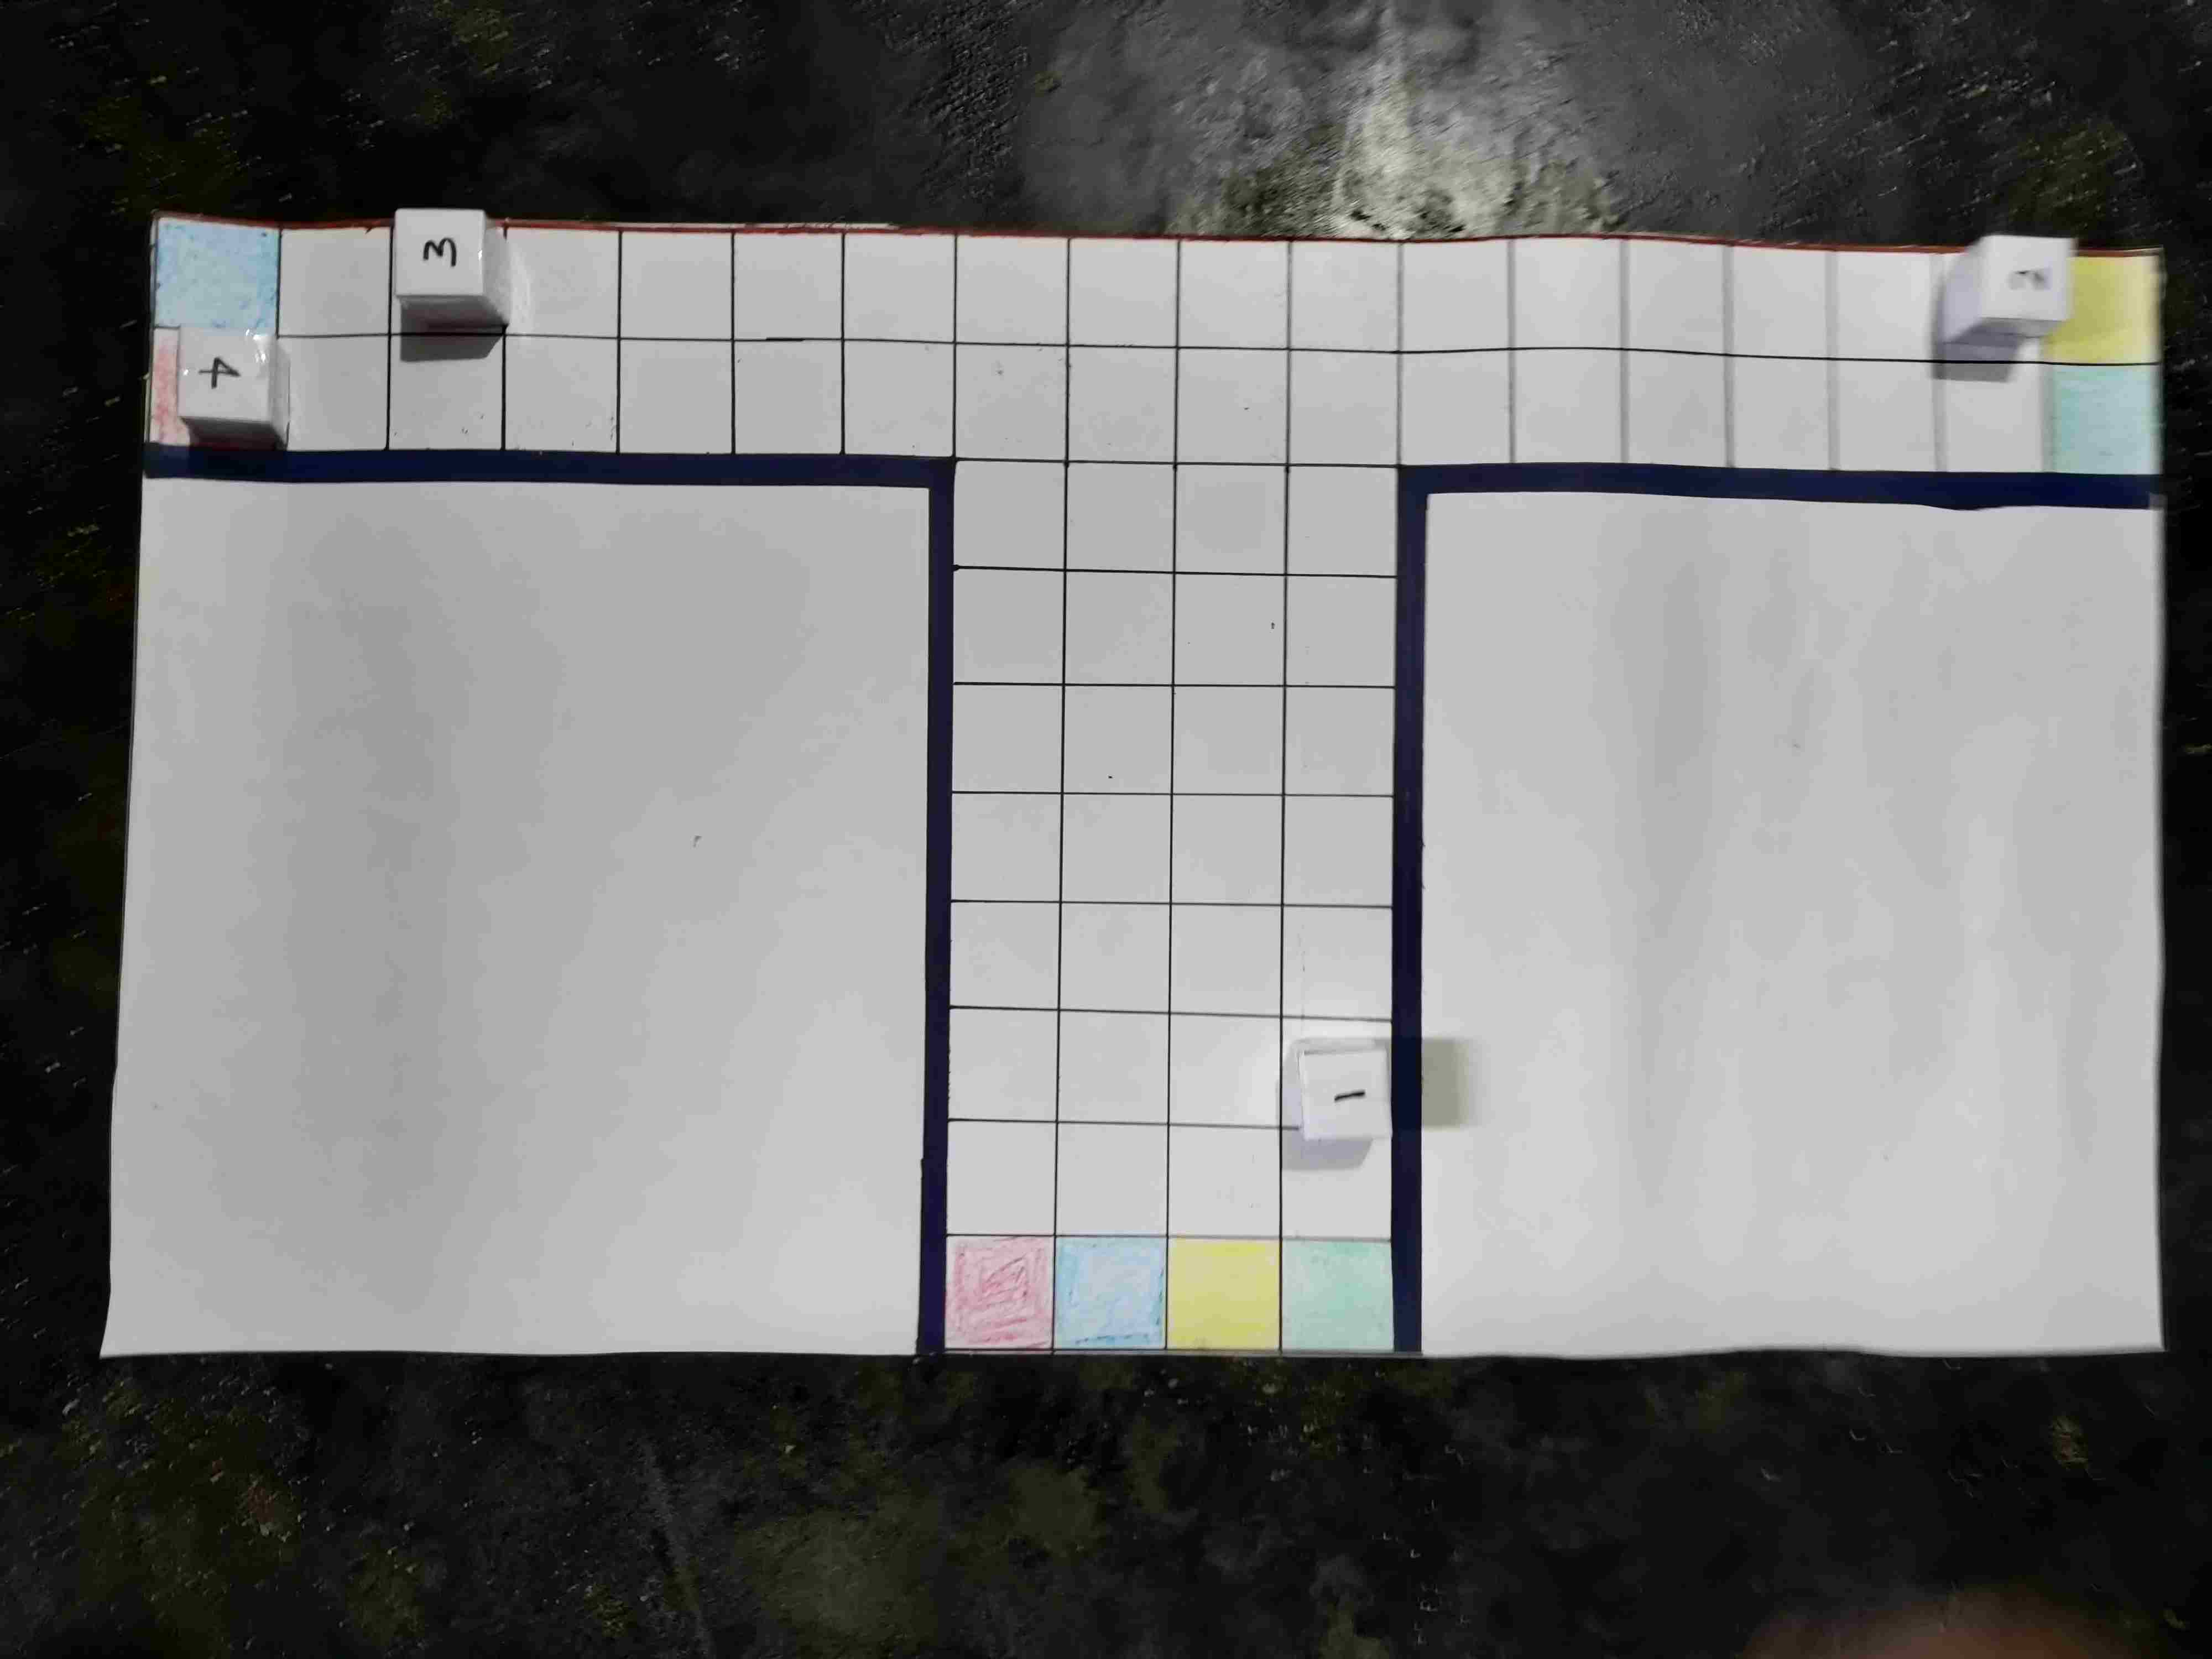arena: (145, 289, 2055, 1377)
bot: (1103, 972, 1190, 1049), (1205, 1070, 1287, 1150), (988, 859, 1073, 936), (880, 732, 958, 810)
